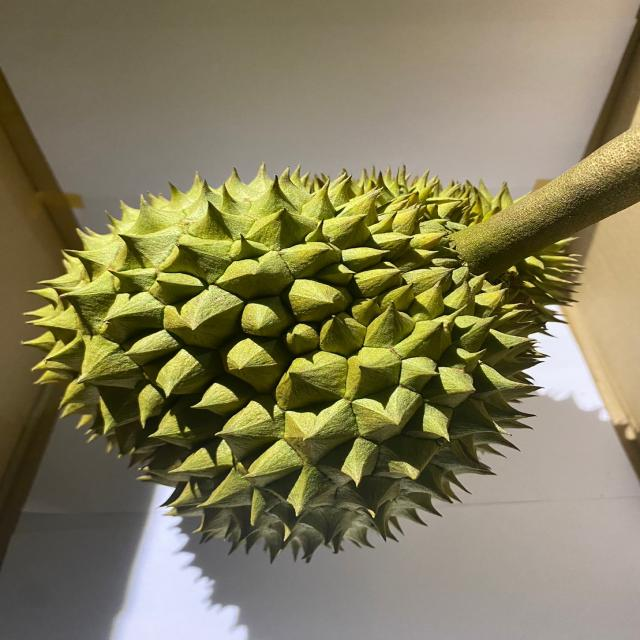immature: (20, 158, 584, 562)
